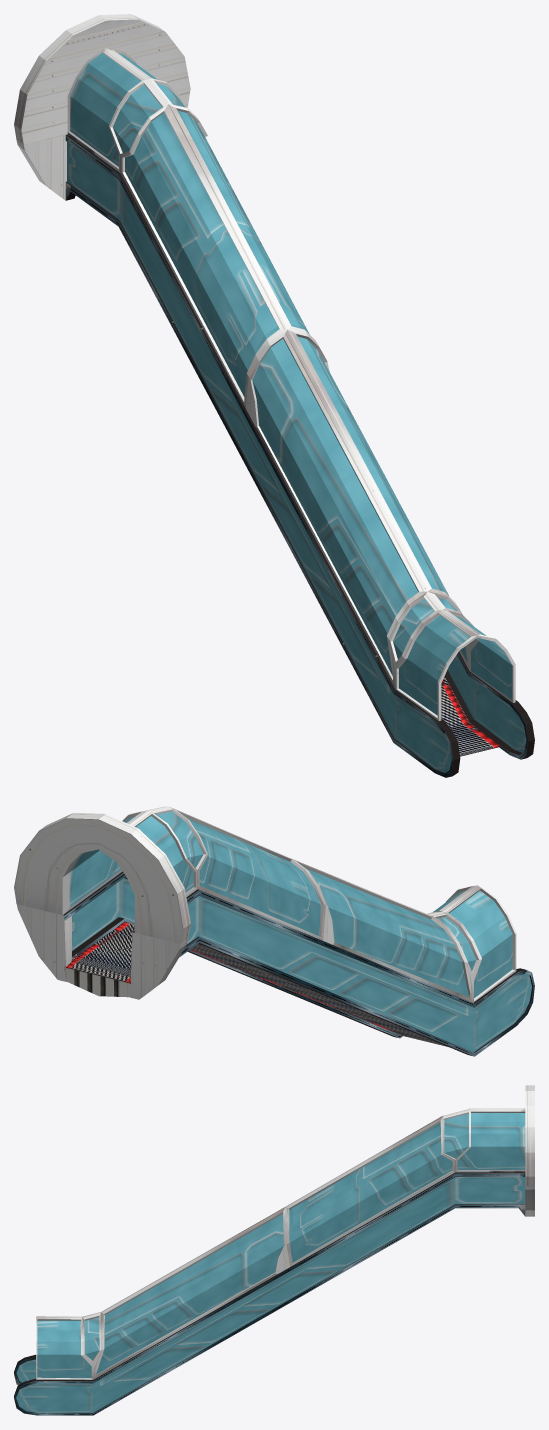
The model's file is escalator1.dae.
3 renders of one model, top to bottom at view 1: azimuth 30°, elevation 25°; view 2: azimuth 150°, elevation 25°; view 3: azimuth 270°, elevation 25°, orthographic. The views are drawn at different scales.
Parts seen in each view (by area): view 1: DownTownE-0, DownTownE_sep28-0, DownTownE_sep22-0, DownTownE_sep27-0; view 2: DownTownE-0, DownTownE_sep28-0, DownTownE_sep22-0, DownTownE_sep27-0; view 3: DownTownE-0, DownTownE_sep28-0, DownTownE_sep22-0.
Part boxes in pixels (x1,y1,x2,y2): DownTownE-0: [67, 52, 526, 772]; DownTownE_sep28-0: [14, 14, 515, 720]; DownTownE_sep22-0: [16, 105, 534, 777]; DownTownE_sep27-0: [75, 195, 499, 756]; DownTownE-0: [69, 811, 531, 1052]; DownTownE_sep28-0: [14, 806, 516, 1002]; DownTownE_sep22-0: [16, 871, 534, 1056]; DownTownE_sep27-0: [64, 922, 447, 1046]; DownTownE-0: [16, 1113, 525, 1413]; DownTownE_sep28-0: [36, 1085, 534, 1379]; DownTownE_sep22-0: [14, 1172, 534, 1415].
Size of the model in its own units: 4.38 by 11.7 by 17.74.
